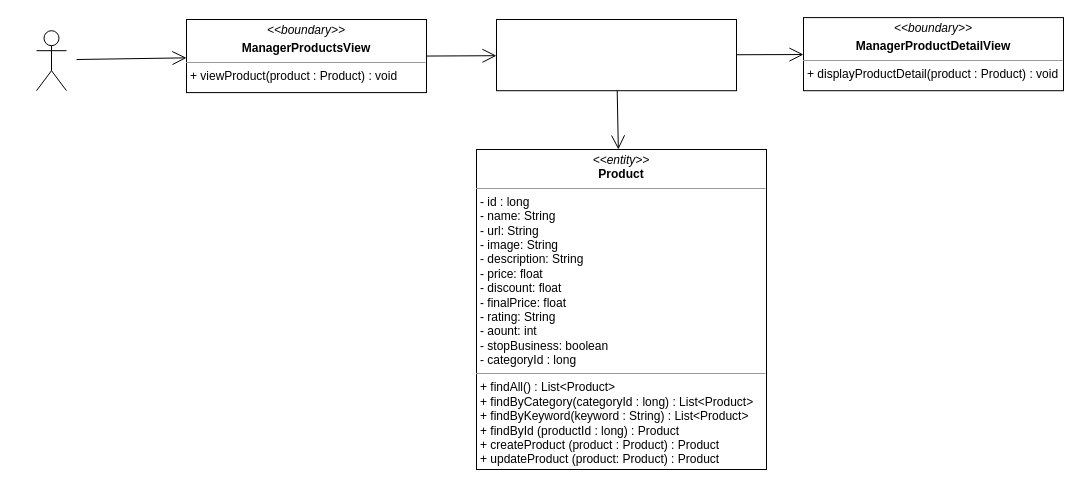
Some shapes in this 1081 by 487 pixel diagram are drawn without their labels. The box of each missing label's shape, as (x1, y1, x2, y2) in pixels:
<<control>> ProductController + getProductByUrl(proId: String): Product: (496, 18, 736, 91)
Quản trị viên: (36, 30, 66, 91)
